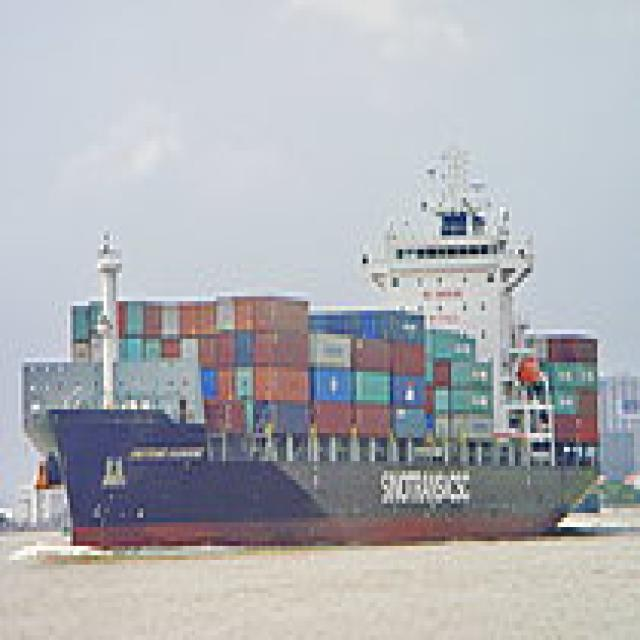Cargo: (15, 132, 598, 546)
